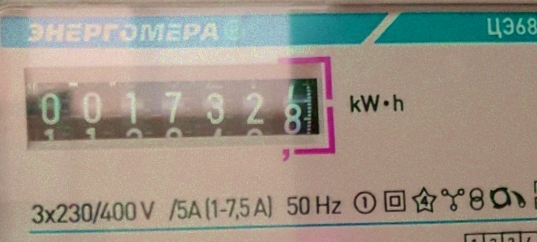0: (39, 89, 62, 126), (81, 89, 102, 123)
1: (123, 88, 139, 124)
2: (242, 90, 264, 126)
3: (203, 90, 226, 126)
7: (160, 87, 185, 125)
8: (281, 100, 301, 136)
screen: (14, 56, 339, 166)
